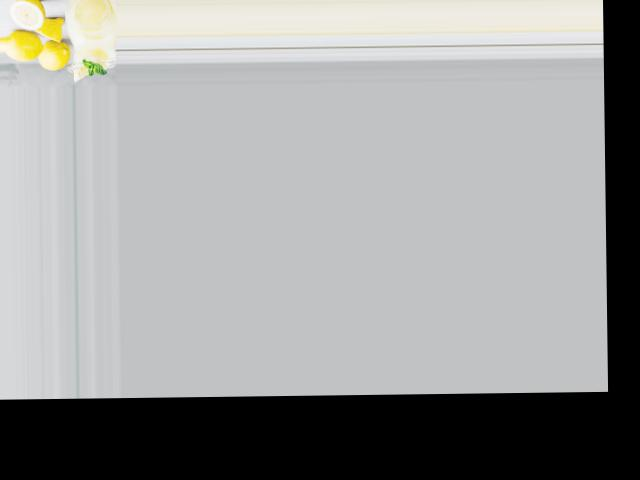lemon: (6, 31, 48, 59)
